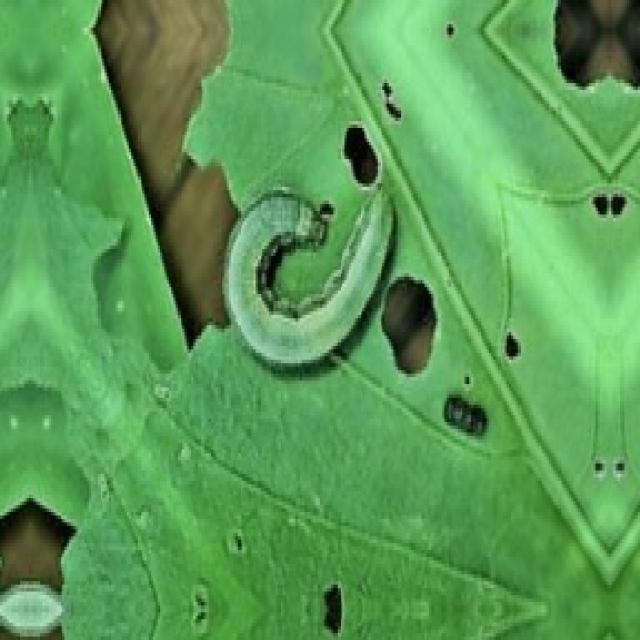armyworm: (220, 121, 396, 367)
